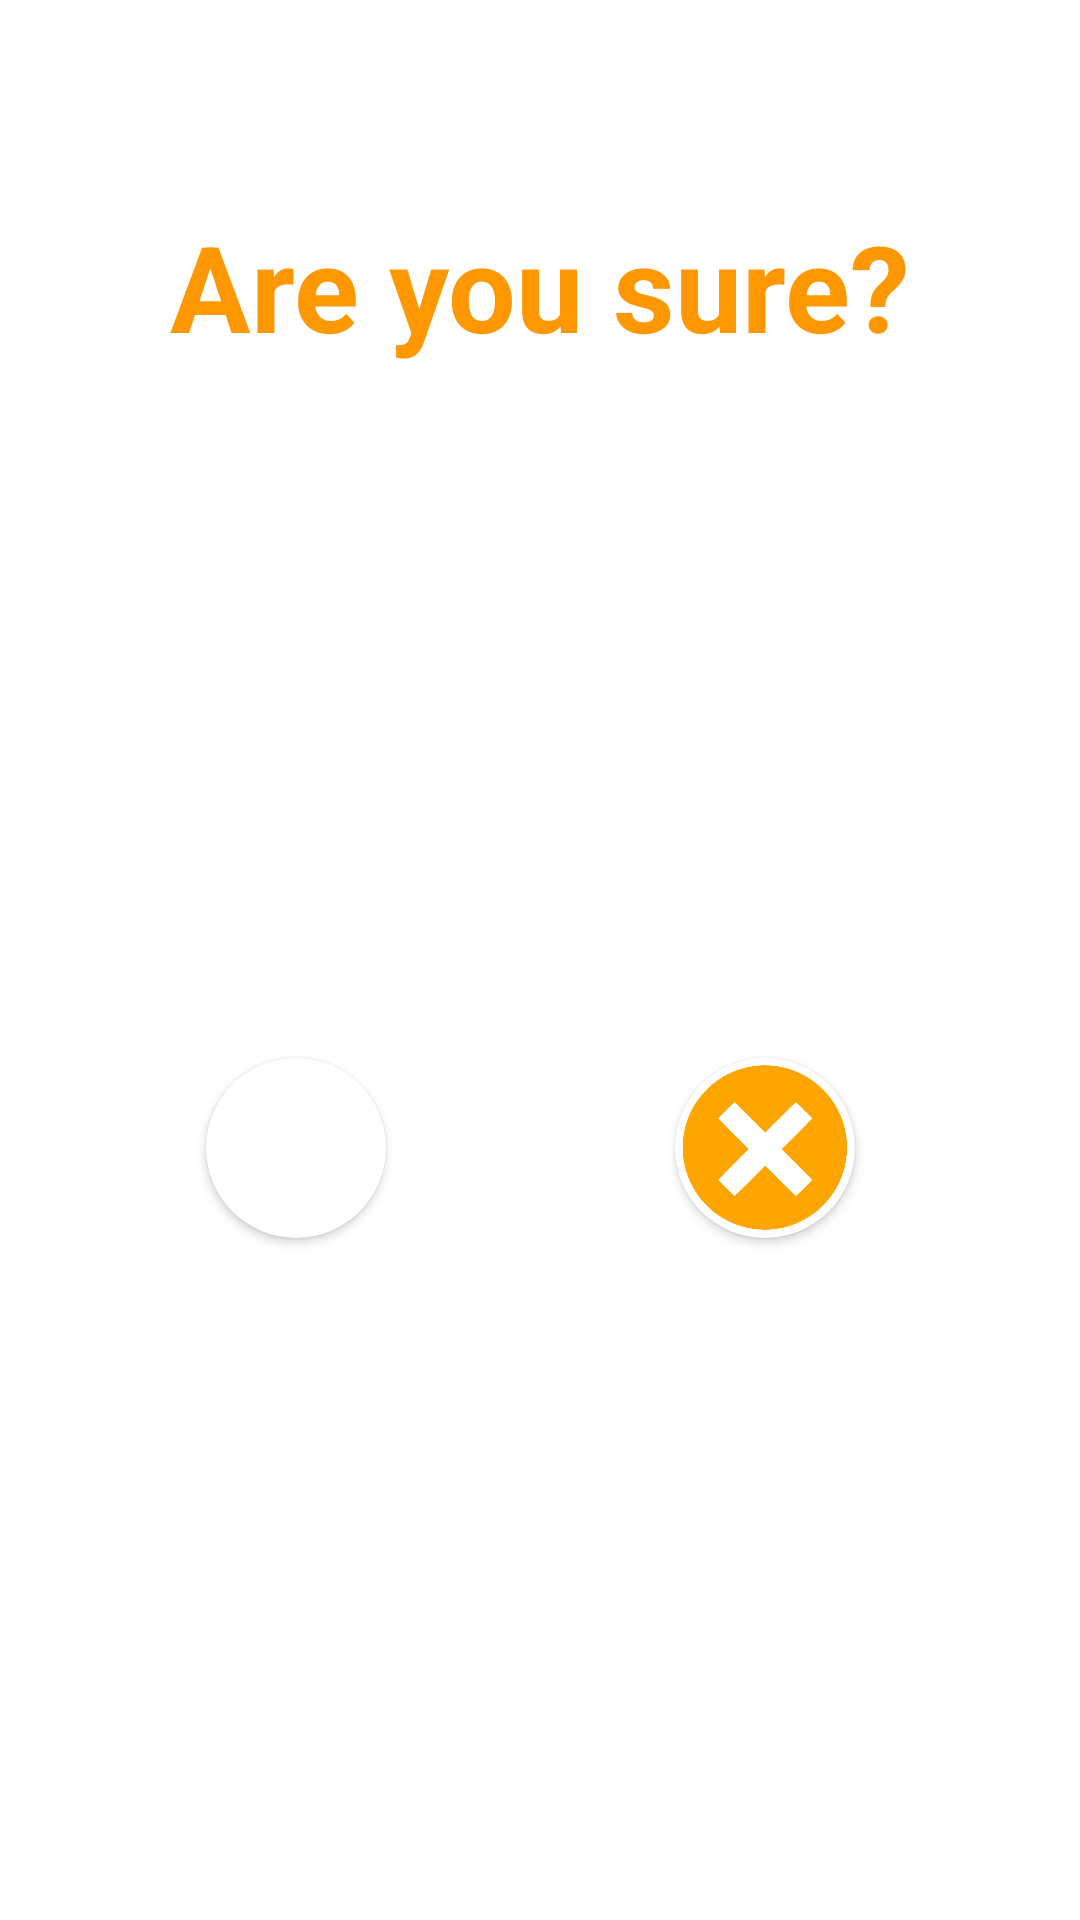

Screen size 1080×1920. Icon name, then its center in pixels as point (x, y):
no exit: point (765, 1147)
